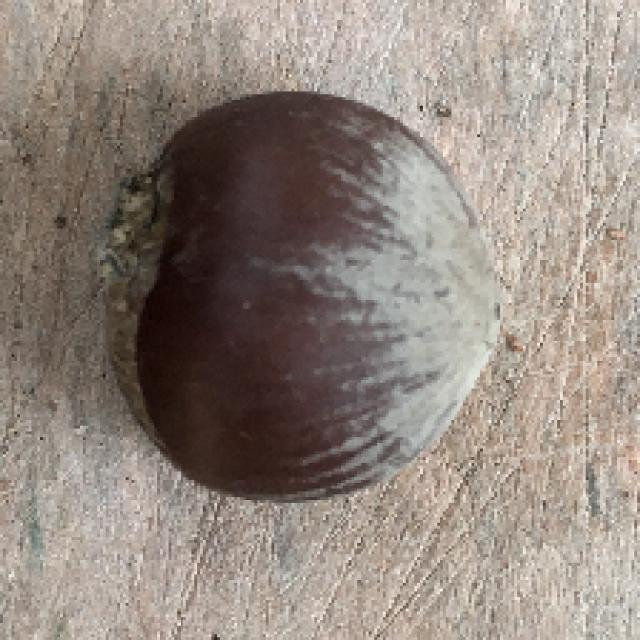damagedHazelnut: (86, 88, 505, 501)
